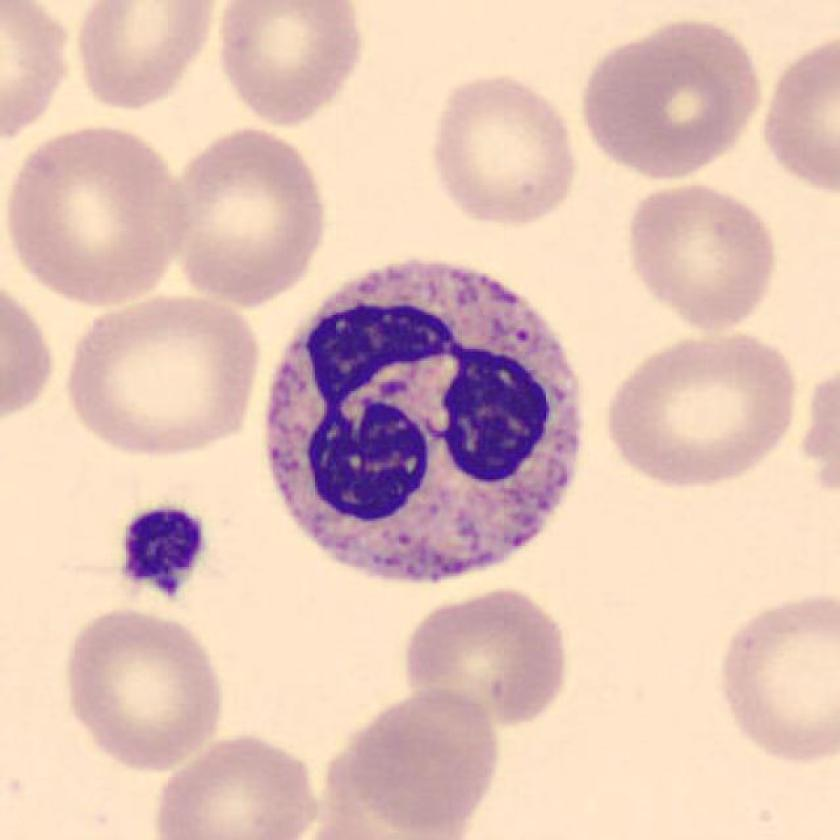neutrophil: (269, 260, 580, 584)
